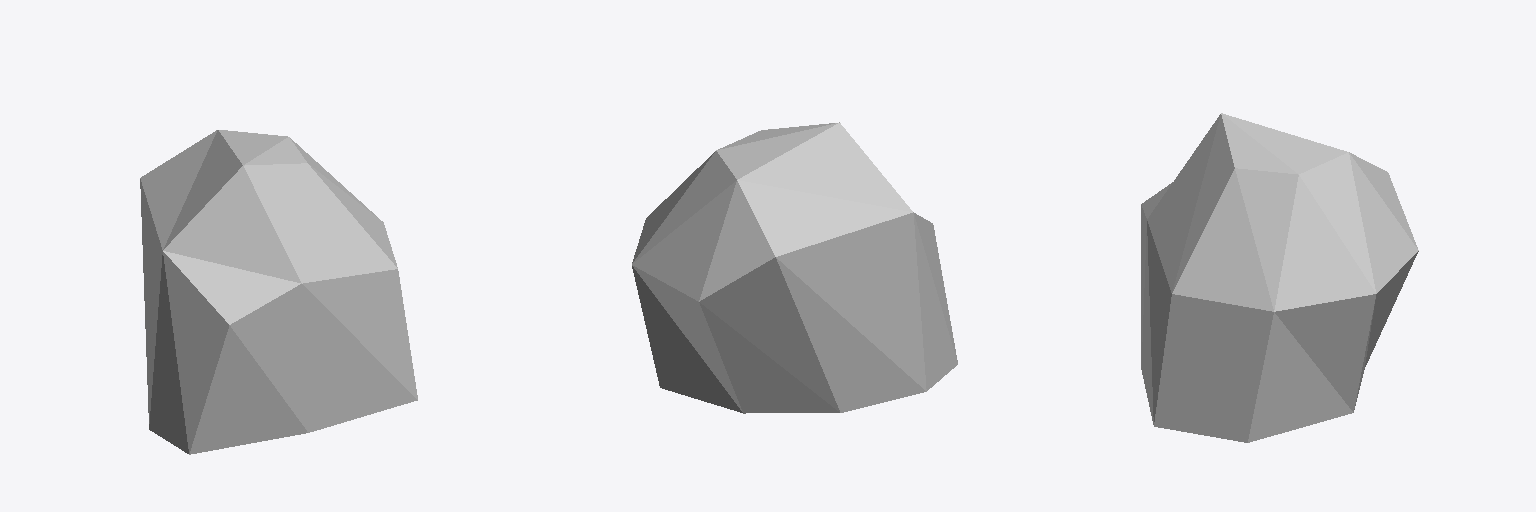
The model's file is Rock2.obj.
The picture shows the model from 3 angles: view 1: azimuth 30°, elevation 25°; view 2: azimuth 150°, elevation 25°; view 3: azimuth 270°, elevation 25°; orthographic projection.
Visible parts, largest first — view 1: Cylinder; view 2: Cylinder; view 3: Cylinder.
Boxes of the visible parts, x1=… form: Cylinder: x1=140, y1=130, x2=417, y2=454; Cylinder: x1=632, y1=122, x2=957, y2=413; Cylinder: x1=1141, y1=113, x2=1418, y2=442.
Size of the model in its own units: 2.31 by 2.03 by 2.09.